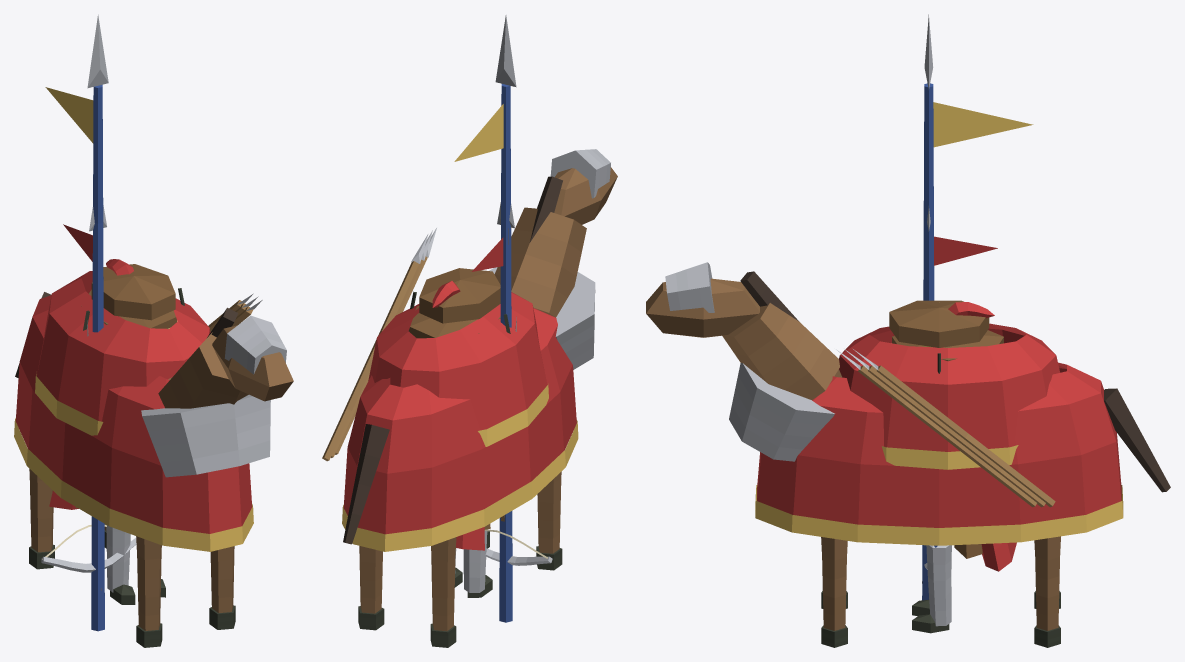
The model's file is people.glb.
The picture shows the model from 3 angles, left to right: view 1: azimuth 30°, elevation 25°; view 2: azimuth 150°, elevation 25°; view 3: azimuth 270°, elevation 25°; orthographic projection.
Visible parts, largest first — view 1: Warhorse_Body, Tack_Body, Commander_ArmR, Warhorse_LegFR, Warhorse_LegBR, Warhorse_LegFL, Commander_LegR, Crossbow_ArmR, Knight_ArmR; view 2: Warhorse_Body, Tack_Body, Commander_ArmR, Warhorse_LegBR, Warhorse_LegFR, Warhorse_LegBL, Commander_LegR, Knight_ArmR, Crossbow_ArmR, Commander_Body; view 3: Warhorse_Body, Tack_Body, Commander_ArmR, Warhorse_LegBL, Warhorse_LegFL, Commander_LegL, Knight_ArmR, Commander_Body.
Part boxes in pixels (x1=…): Warhorse_Body: x1=14, y1=289, x2=293, y2=551; Tack_Body: x1=35, y1=264, x2=270, y2=477; Commander_ArmR: x1=45, y1=14, x2=108, y2=631; Warhorse_LegFR: x1=136, y1=536, x2=162, y2=647; Warhorse_LegBR: x1=29, y1=469, x2=54, y2=569; Warhorse_LegFL: x1=209, y1=546, x2=235, y2=629; Commander_LegR: x1=106, y1=525, x2=135, y2=604; Crossbow_ArmR: x1=41, y1=524, x2=136, y2=572; Knight_ArmR: x1=63, y1=205, x2=106, y2=261; Warhorse_Body: x1=322, y1=149, x2=617, y2=551; Tack_Body: x1=368, y1=267, x2=595, y2=446; Commander_ArmR: x1=454, y1=15, x2=516, y2=622; Warhorse_LegBR: x1=430, y1=537, x2=456, y2=647; Warhorse_LegFR: x1=536, y1=471, x2=562, y2=570; Warhorse_LegBL: x1=358, y1=546, x2=384, y2=630; Commander_LegR: x1=463, y1=531, x2=492, y2=597; Knight_ArmR: x1=472, y1=202, x2=514, y2=271; Crossbow_ArmR: x1=484, y1=529, x2=552, y2=565; Commander_Body: x1=456, y1=527, x2=484, y2=550; Warhorse_Body: x1=646, y1=262, x2=1170, y2=545; Tack_Body: x1=729, y1=300, x2=1060, y2=469; Commander_ArmR: x1=922, y1=14, x2=1033, y2=600; Warhorse_LegBL: x1=1034, y1=536, x2=1060, y2=647; Warhorse_LegFL: x1=821, y1=537, x2=847, y2=647; Commander_LegL: x1=912, y1=545, x2=951, y2=633; Knight_ArmR: x1=927, y1=206, x2=997, y2=265; Commander_Body: x1=921, y1=302, x2=1016, y2=571.
Bounding box in the file's own units: 1.15 × 3.85 × 3.01.
